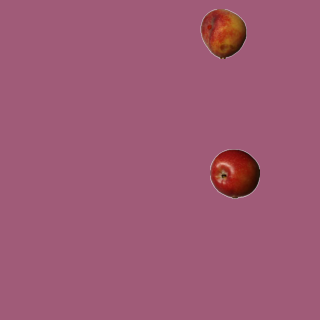Apple Braeburn: (209, 148, 259, 198)
Peach: (198, 8, 248, 58)
